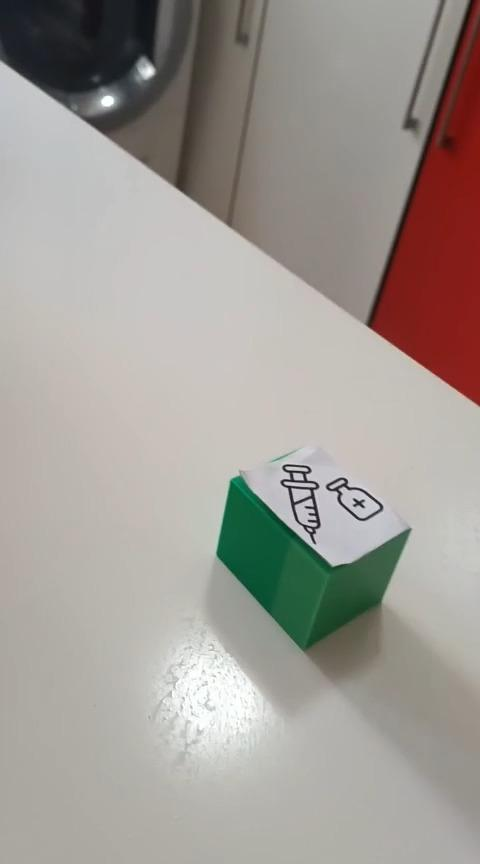antiseptic cream: (214, 443, 412, 651)
